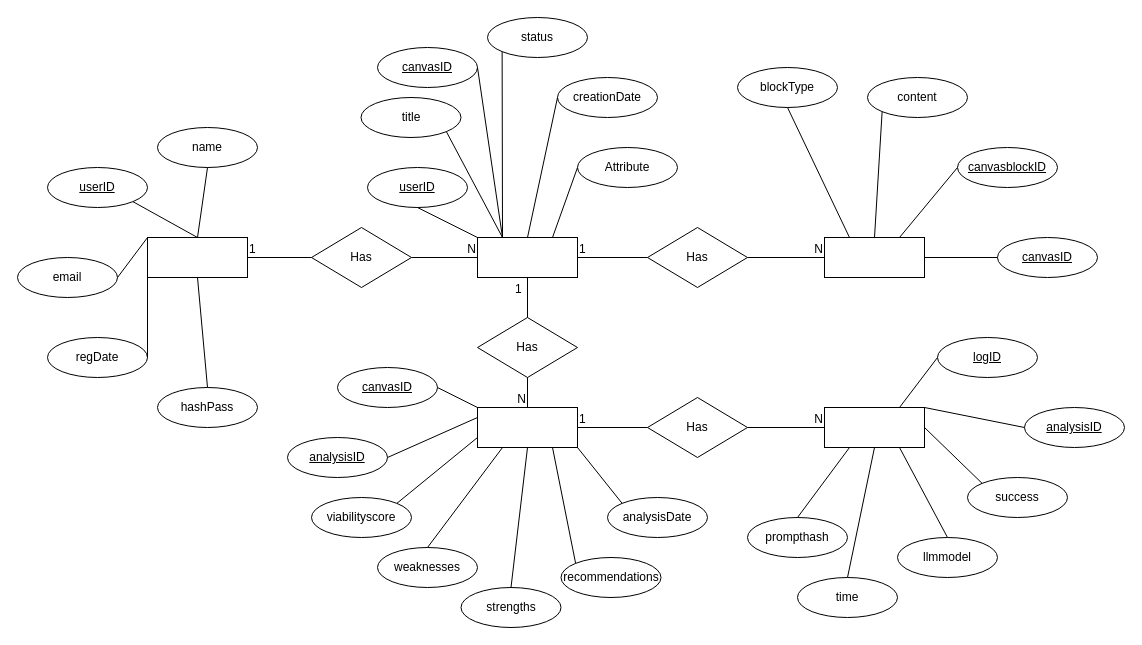
The diagram is 1142 pixels wide and 645 high, and some of its shapes have lost their labels. Here are the shapes that lost their labels. From the top down, the box of each, then its label:
(146, 236, 248, 278): User
(476, 236, 578, 278): Canvas
(824, 236, 924, 278): CanvasBlock
(476, 406, 578, 448): AIAnalysis
(824, 406, 924, 448): AuditLog
